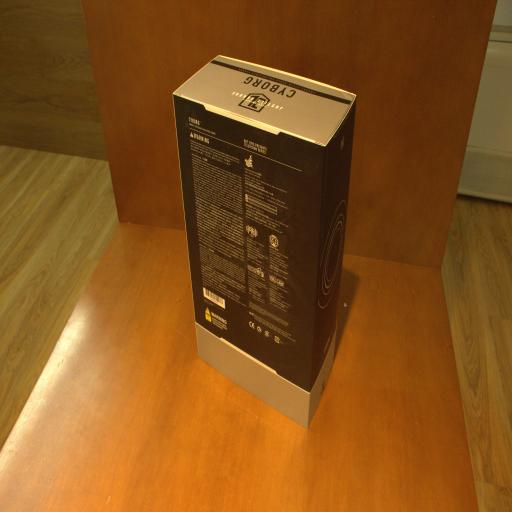Cyborg: (173, 54, 355, 429)
